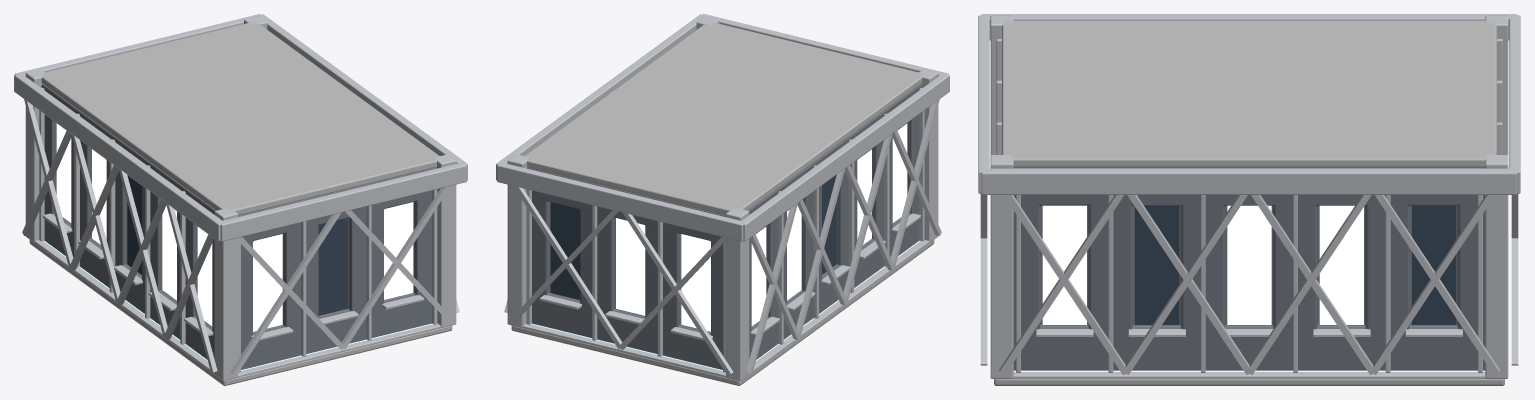
Rendered from exo_4x6.glb.
3 renders of one model, left to right at view 1: azimuth 30°, elevation 25°; view 2: azimuth 150°, elevation 25°; view 3: azimuth 270°, elevation 25°, orthographic. The views are drawn at different scales.
Parts seen in each view (by area): view 1: int_ceiling, ext_wall, ext_panes_lit, int_columns, ext_frames, ext_truss3, ext_truss2, ext_panes_dark, int_slab_edge, ext_truss0, int_slab, ext_truss1 (+13 smaller); view 2: int_ceiling, ext_wall, ext_panes_lit, int_columns, ext_frames, ext_truss1, ext_truss2, ext_panes_dark, int_slab_edge, ext_truss0, int_slab, ext_truss3 (+13 smaller); view 3: int_ceiling, ext_wall, ext_truss0, ext_panes_lit, int_columns, ext_panes_dark, ext_frames, int_slab, ext_truss2, int_slab_edge, ext_truss1, ext_truss3 (+11 smaller).
Boxes of the visible parts, x1,y1,x2,y2 form: int_ceiling: (41, 22, 441, 215); ext_wall: (41, 84, 436, 369); ext_panes_lit: (56, 123, 413, 331); int_columns: (25, 16, 456, 380); ext_frames: (39, 87, 437, 372); ext_truss3: (220, 162, 466, 241); ext_truss2: (14, 74, 224, 241); ext_panes_dark: (127, 175, 347, 315); int_slab_edge: (34, 240, 441, 377); ext_truss0: (257, 14, 467, 180); int_slab: (29, 240, 452, 385); ext_truss1: (15, 14, 260, 76); int_ceiling: (521, 22, 924, 215); ext_wall: (527, 84, 922, 369); ext_panes_lit: (616, 123, 907, 331); int_columns: (507, 16, 938, 380); ext_frames: (526, 87, 924, 372); ext_truss1: (497, 162, 744, 241); ext_truss2: (741, 74, 949, 241); ext_panes_dark: (550, 175, 836, 299); int_slab_edge: (522, 240, 929, 377); ext_truss0: (496, 14, 706, 180); int_slab: (511, 240, 934, 385); ext_truss3: (702, 14, 948, 76); int_ceiling: (1002, 20, 1496, 167); ext_wall: (1013, 167, 1485, 370); ext_truss0: (981, 168, 1517, 194); ext_panes_lit: (1042, 205, 1363, 324); int_columns: (990, 15, 1508, 378); ext_panes_dark: (1135, 205, 1456, 324); ext_frames: (996, 39, 1502, 372); int_slab: (994, 378, 1504, 385); ext_truss2: (981, 14, 1517, 40); int_slab_edge: (1013, 372, 1485, 378); ext_truss1: (1509, 15, 1520, 193); ext_truss3: (978, 15, 989, 193).
Bounding box in the file's own units: 4.58 × 3 × 6.58.
